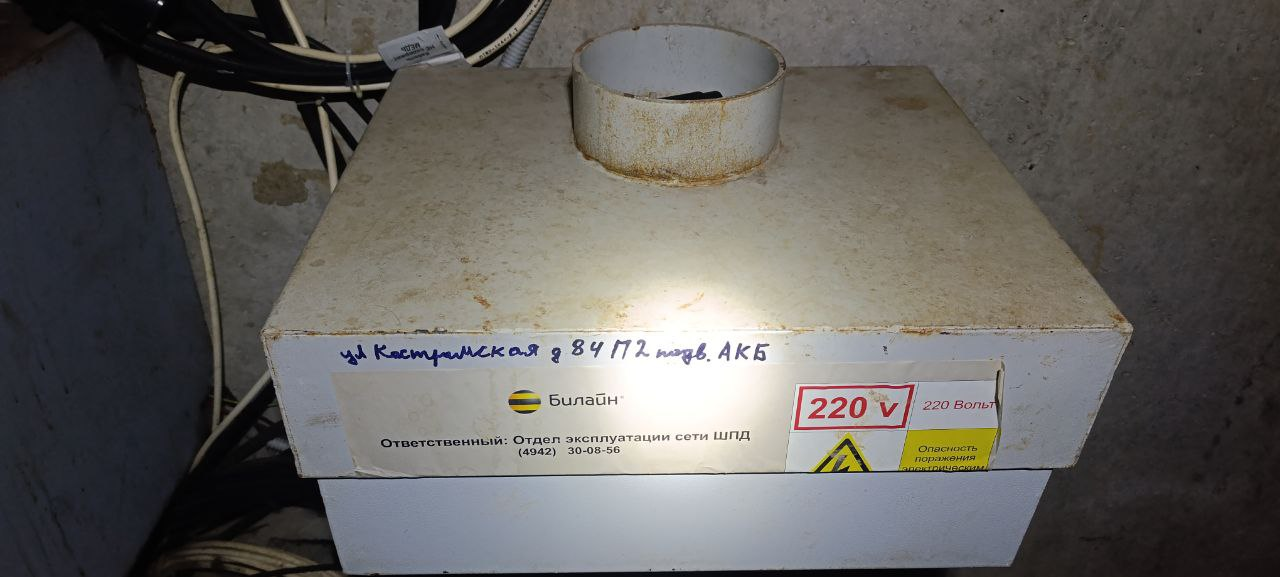shta-ps: (247, 15, 1148, 571)
